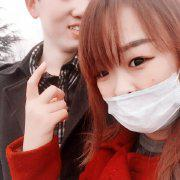NONE: (37, 1, 97, 53)
WRONG: (88, 36, 180, 133)
